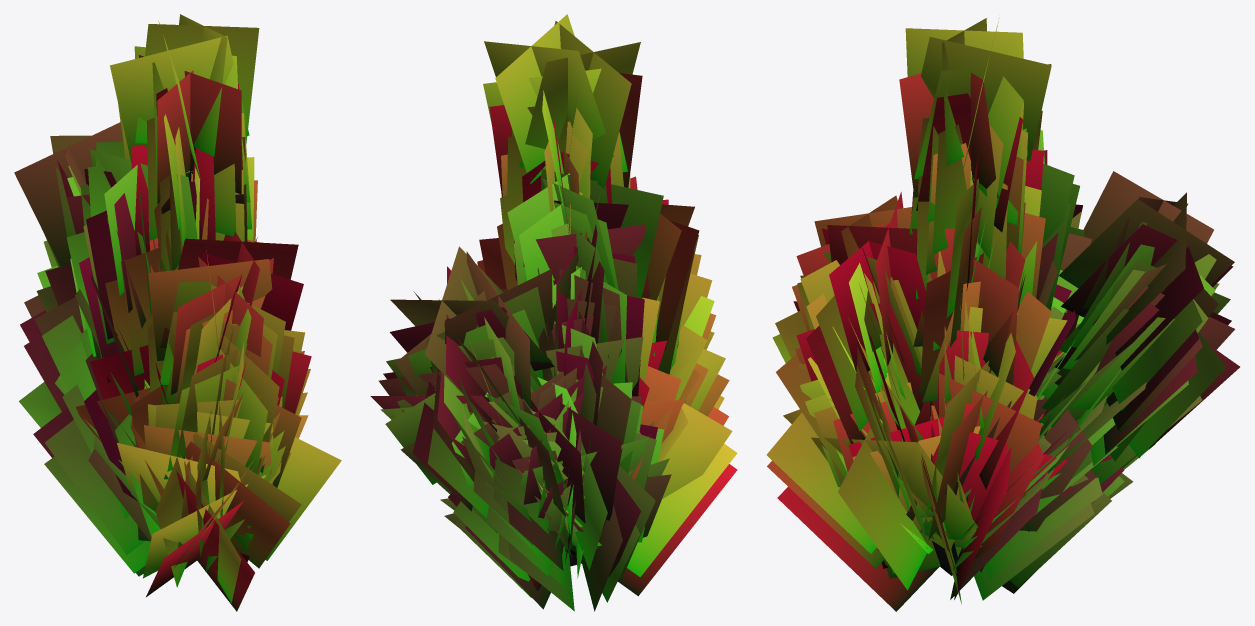
The model's file is M_P6_Tree_11.fbx.
3 renders of one model, left to right at view 1: azimuth 30°, elevation 25°; view 2: azimuth 150°, elevation 25°; view 3: azimuth 270°, elevation 25°, orthographic. The views are drawn at different scales.
Parts seen in each view (by area): view 1: Tree_11; view 2: Tree_11; view 3: Tree_11.
Part boxes in pixels (bbox=[...]): Tree_11: bbox=[14, 14, 341, 611]; Tree_11: bbox=[370, 14, 737, 611]; Tree_11: bbox=[766, 18, 1239, 611].
Size of the model in its own units: 312 by 765 by 568.
